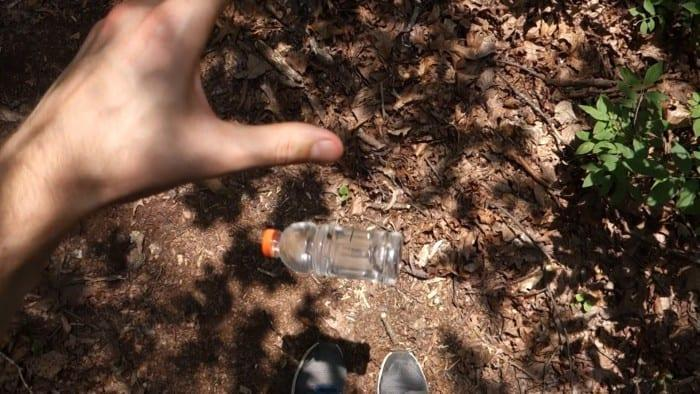bottle: (250, 214, 404, 310)
